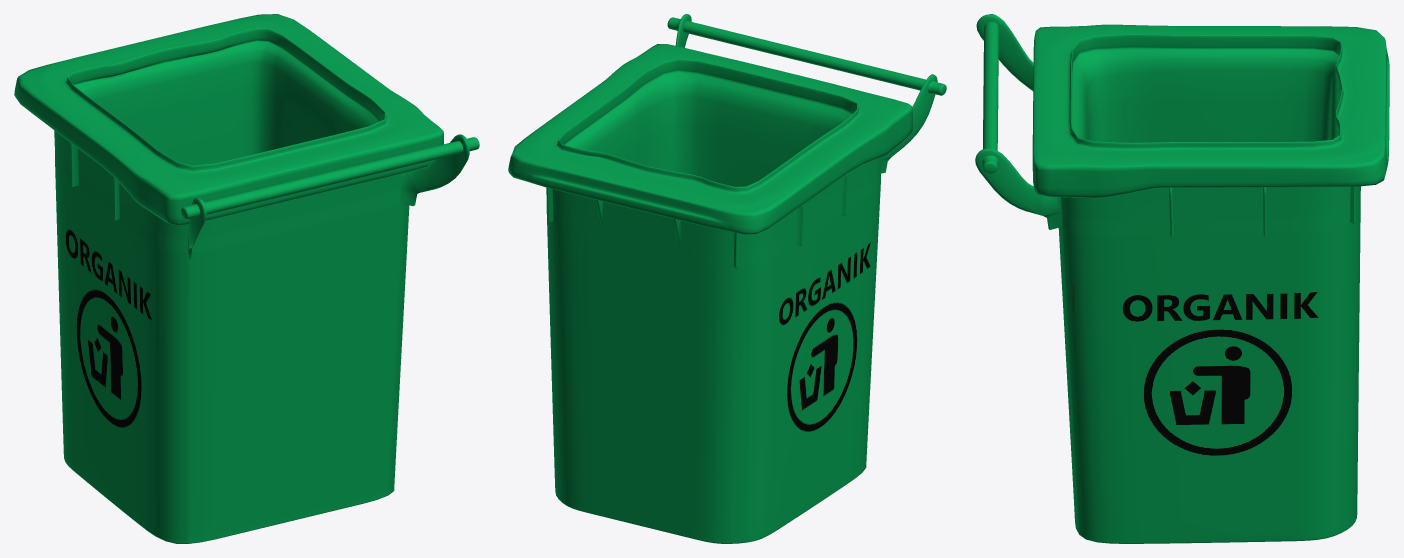
File: only-trash-organik.fbx
The picture shows the model from 3 angles, left to right: view 1: azimuth 30°, elevation 25°; view 2: azimuth 150°, elevation 25°; view 3: azimuth 270°, elevation 25°; orthographic projection. The views are drawn at different scales.
Visible parts, largest first — view 1: BinBaseRim.009; view 2: BinBaseRim.009; view 3: BinBaseRim.009.
Boxes of the visible parts, x1,y1,x2,y2 form: BinBaseRim.009: [14, 14, 479, 543]; BinBaseRim.009: [508, 14, 946, 543]; BinBaseRim.009: [975, 14, 1389, 543].
Size of the model in its own units: 252 by 317 by 295.
